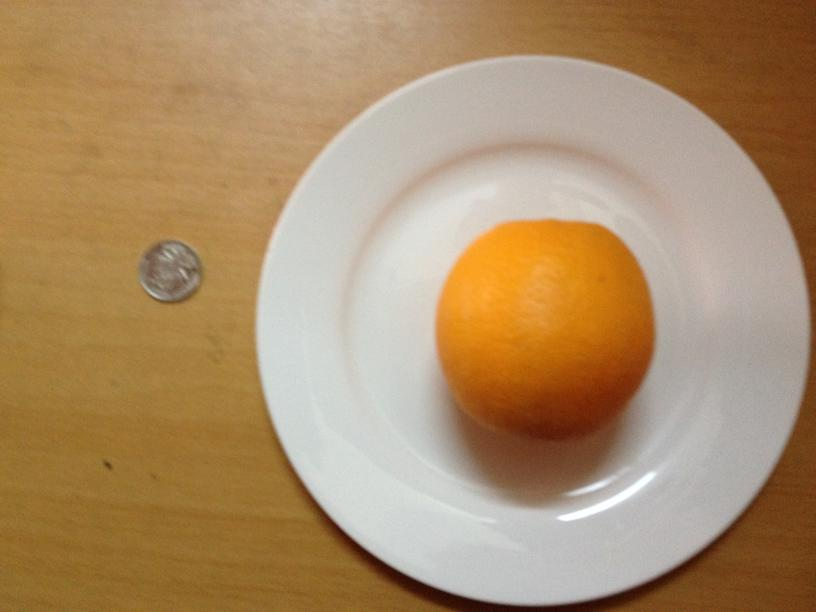coin: (134, 238, 202, 302)
orange: (435, 220, 654, 442)
